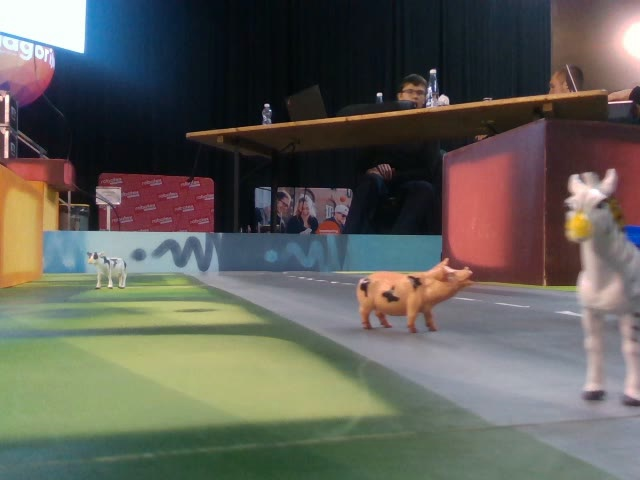toy: (355, 258, 474, 333), (87, 251, 128, 289)
